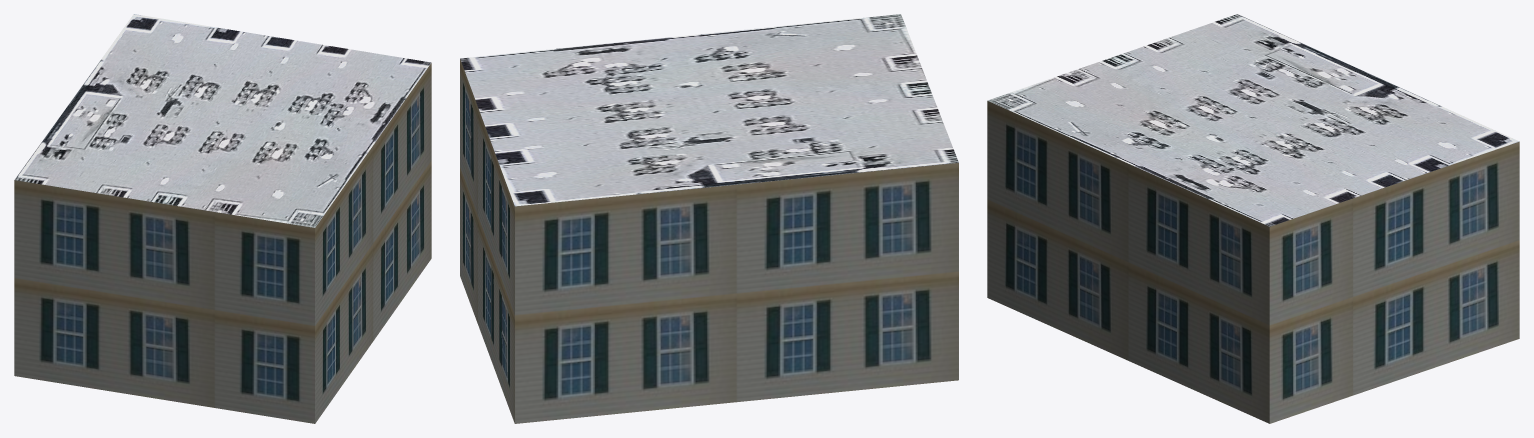
Rendered from ResTex__1308.fbx.
3 renders of one model, left to right at view 1: azimuth 30°, elevation 25°; view 2: azimuth 150°, elevation 25°; view 3: azimuth 270°, elevation 25°, orthographic. The views are drawn at different scales.
Parts seen in each view (by area): view 1: CityEngineMaterial_7_m, CityEngineMaterial_4_m; view 2: CityEngineMaterial_7_m, CityEngineMaterial_4_m; view 3: CityEngineMaterial_7_m, CityEngineMaterial_4_m.
Boxes of the visible parts, bbox=[...] form: CityEngineMaterial_7_m: bbox=[14, 63, 431, 423]; CityEngineMaterial_4_m: bbox=[14, 14, 431, 227]; CityEngineMaterial_7_m: bbox=[460, 59, 958, 423]; CityEngineMaterial_4_m: bbox=[460, 14, 958, 206]; CityEngineMaterial_7_m: bbox=[987, 101, 1519, 423]; CityEngineMaterial_4_m: bbox=[987, 14, 1519, 226].
Size of the model in its own units: 13.88 by 6 by 14.68.
2 materials, 2 textured.
